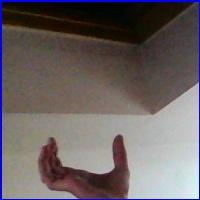space: (33, 126, 145, 198)
